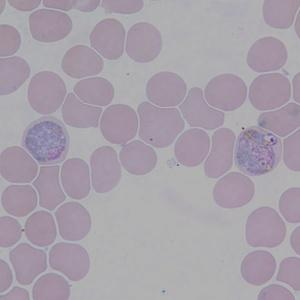Infected: (21, 115, 70, 165), (233, 128, 280, 178)
Uninfected: (135, 101, 186, 148), (179, 87, 224, 131), (203, 127, 237, 178), (27, 70, 67, 113), (245, 206, 285, 248), (204, 73, 246, 112), (8, 241, 46, 284), (28, 7, 73, 43), (248, 72, 289, 111), (62, 90, 103, 129), (145, 70, 187, 108), (90, 146, 122, 195), (32, 164, 66, 210), (49, 241, 89, 280), (89, 17, 126, 59), (258, 101, 300, 138), (99, 105, 138, 144), (212, 172, 253, 209), (125, 21, 162, 62), (61, 44, 104, 79), (55, 201, 91, 242), (246, 36, 287, 72), (175, 128, 211, 168), (60, 156, 91, 201), (0, 145, 36, 182), (120, 141, 158, 176), (74, 75, 114, 108), (1, 182, 37, 217), (24, 209, 57, 247), (240, 250, 275, 285), (0, 55, 29, 95), (263, 0, 298, 28), (32, 272, 69, 298), (276, 255, 299, 291), (0, 215, 22, 248), (0, 23, 21, 56)
